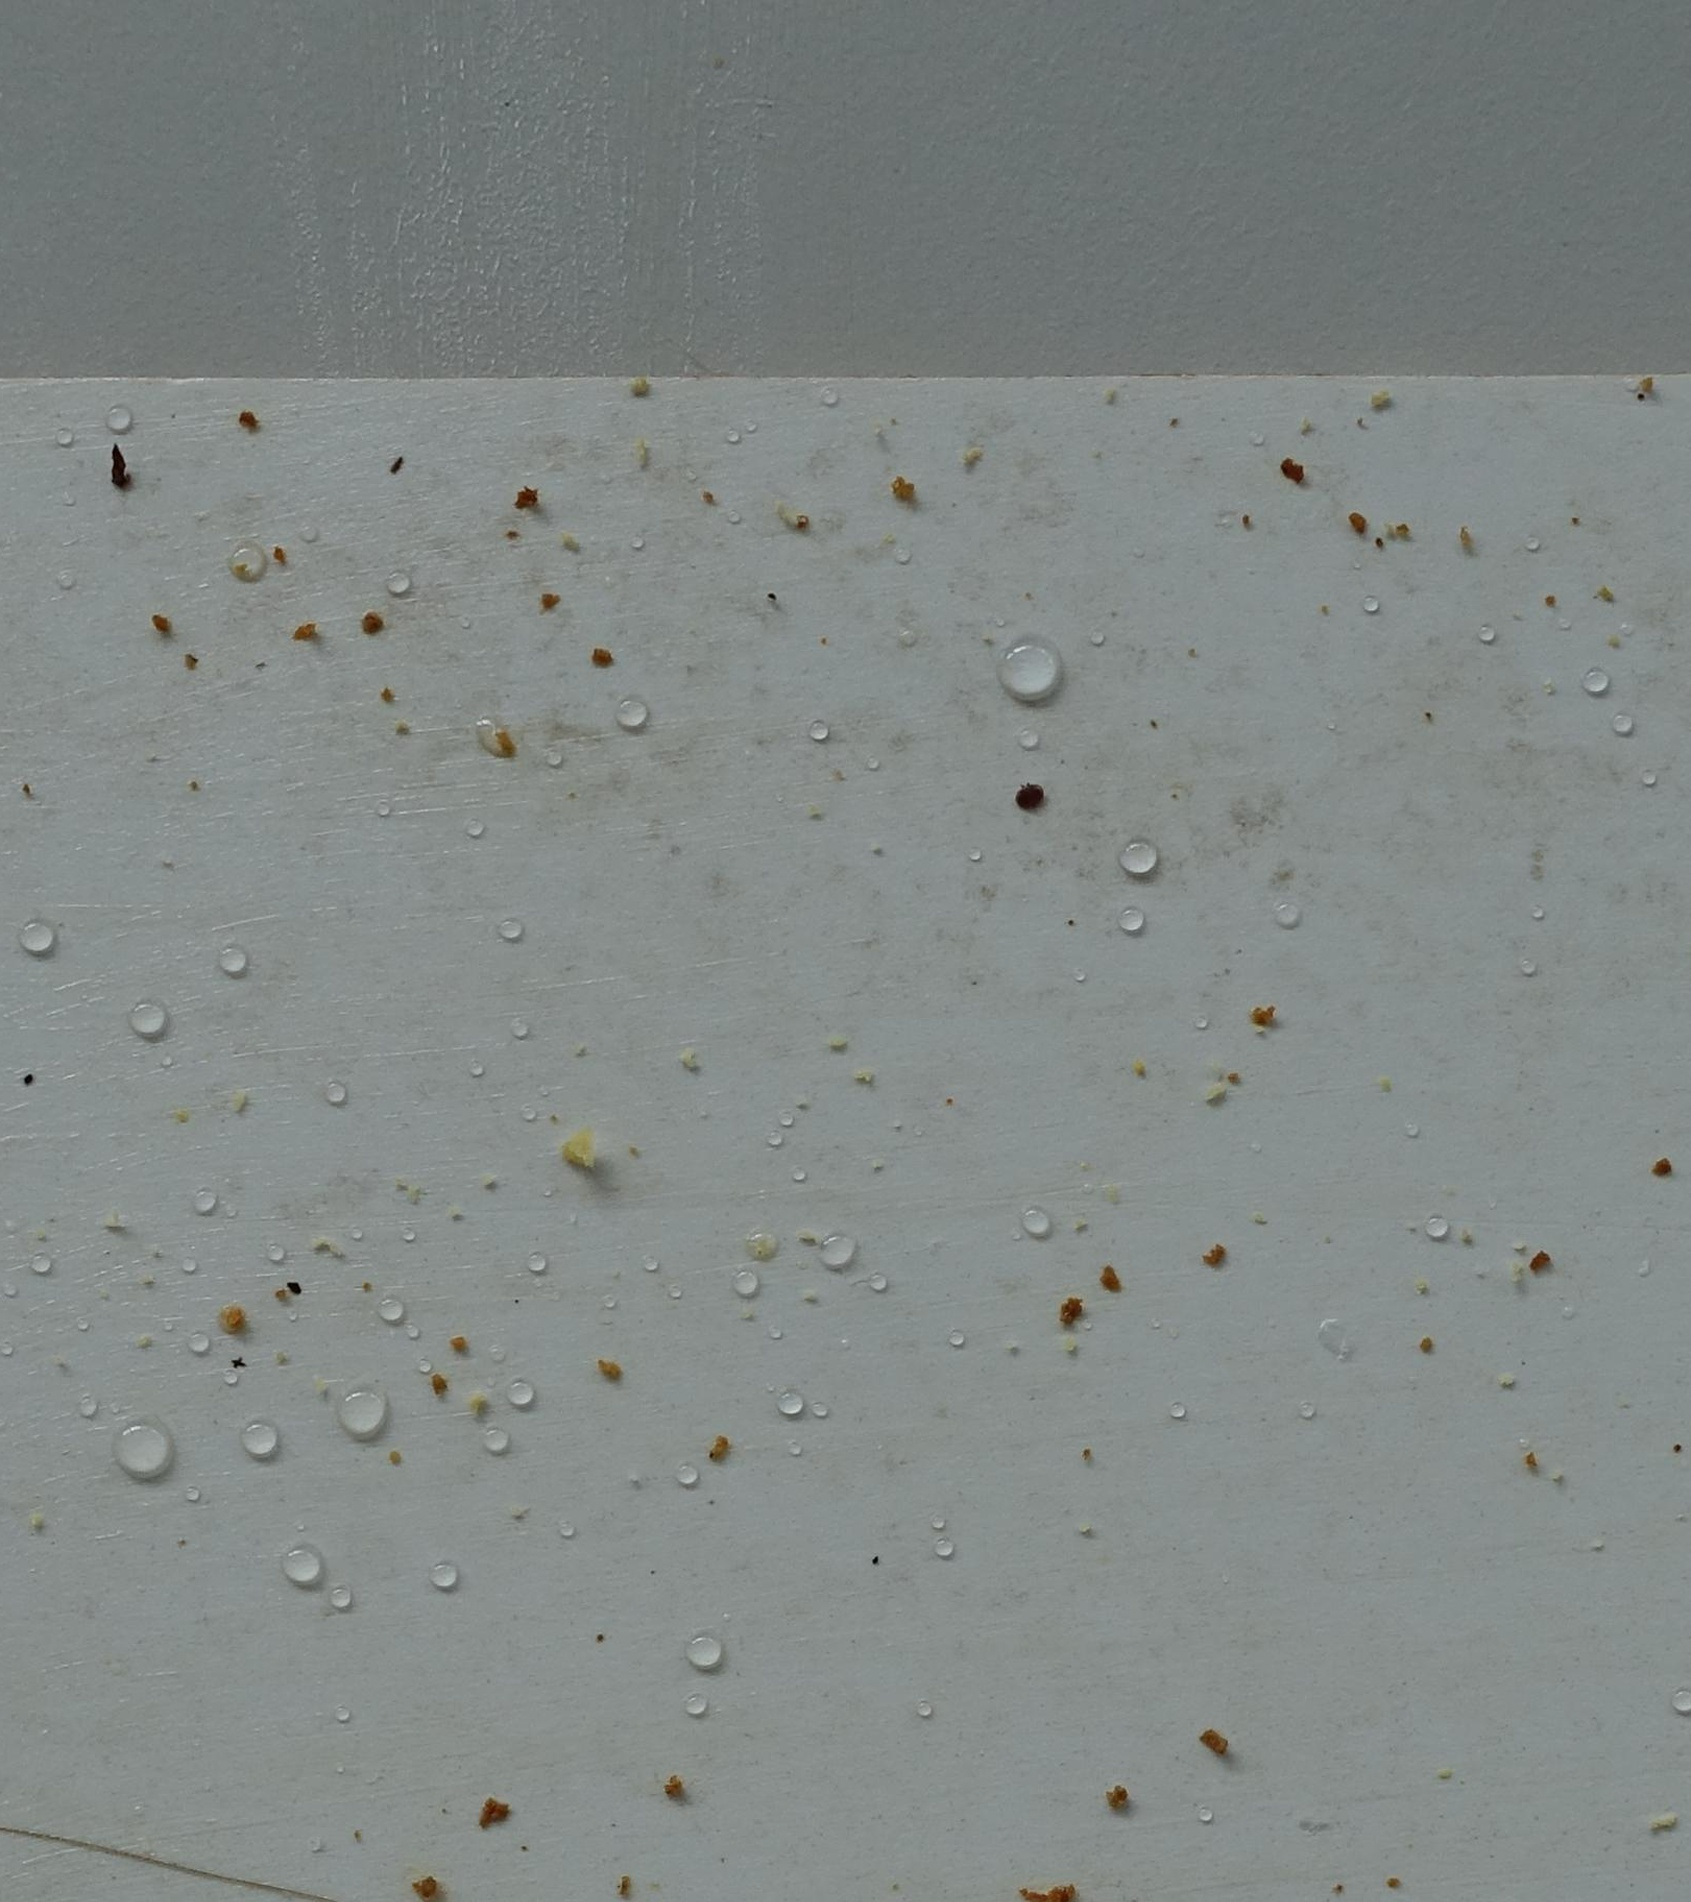Varroa: (1019, 785, 1040, 808)
